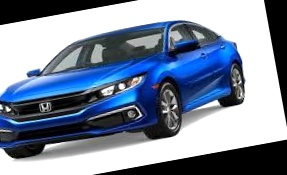car: (0, 6, 256, 172)
